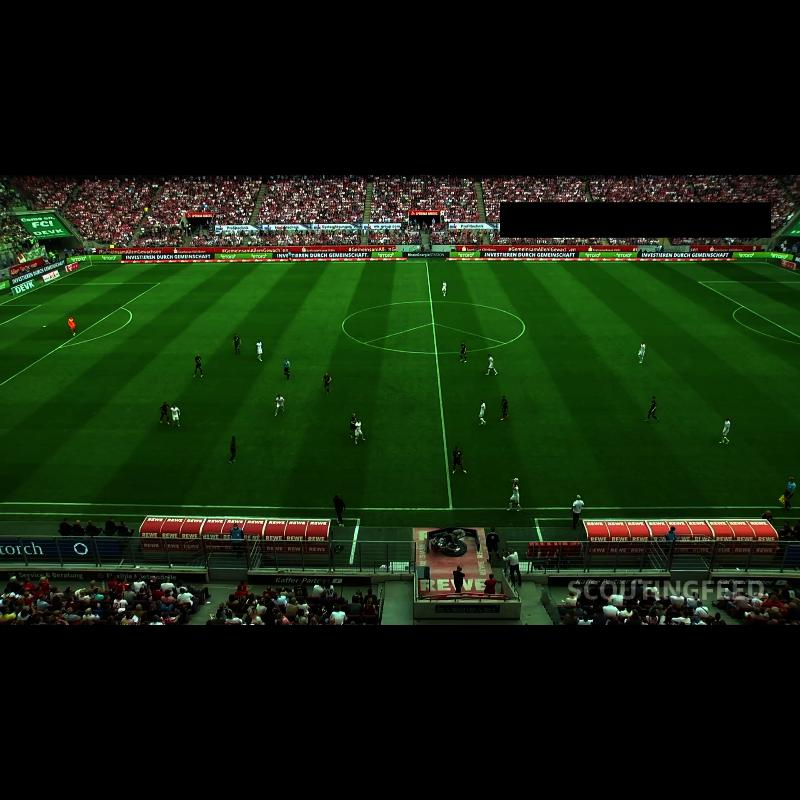cross_recipient_zone: (0, 283, 160, 385), (698, 281, 800, 337)
crossing_player_zone: (0, 395, 112, 503), (48, 263, 261, 284), (594, 262, 800, 282), (771, 397, 800, 423)
pitch: (0, 262, 800, 509)
